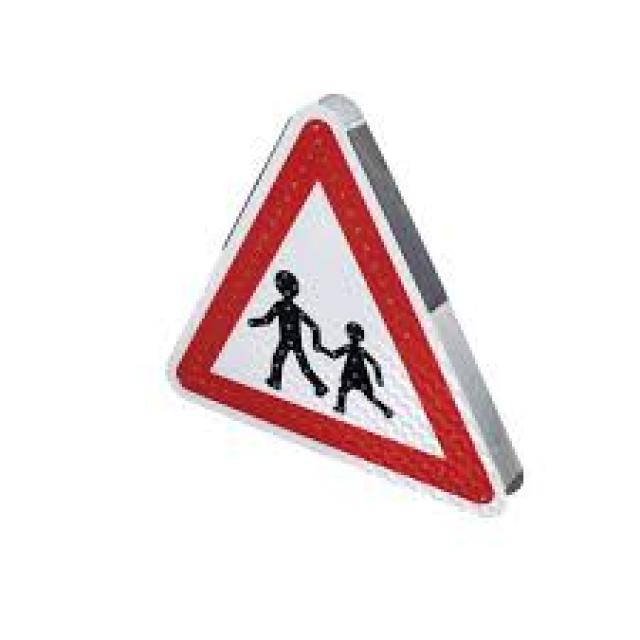AttentionEnfant: (163, 106, 514, 515)
